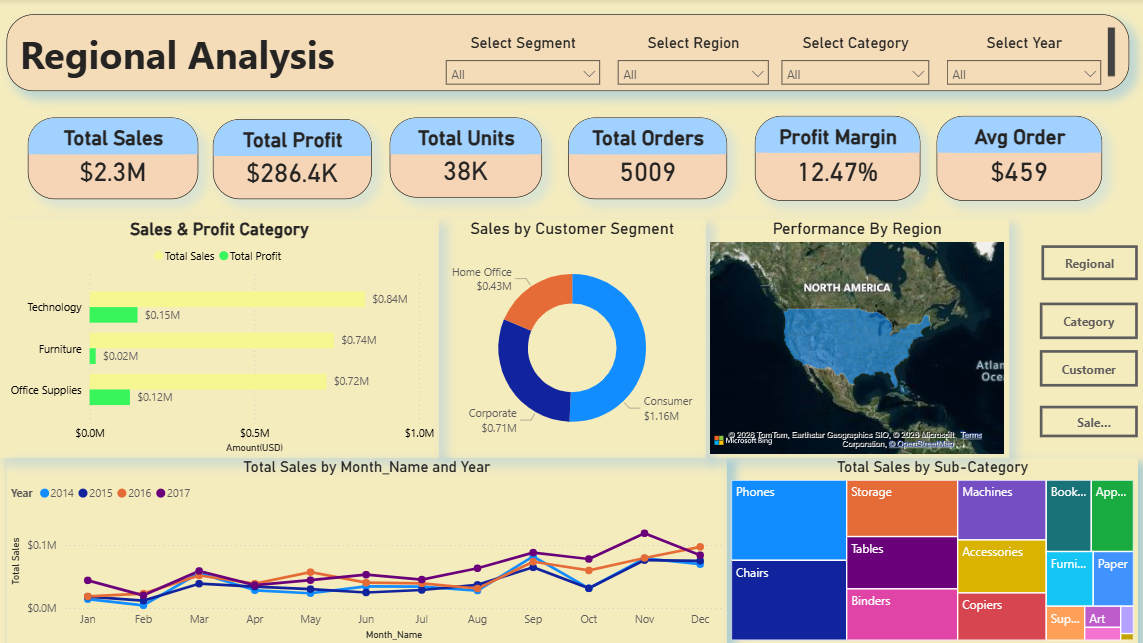

Layout of this report page (visuals, bound fields, positions):
{"tool":"powerbi","page":{"name":"Main Report","canvas":[1280,720],"ordinal":0},"visuals":[{"type":"textbox","box":[8.2,18.4,1251,85.7],"z":0},{"type":"card","title":"Total Sales","fields":{"Values":["_Measures.Total Sales"]},"box":[31,133.2,189.8,91.3],"z":1000},{"type":"card","title":"Total Profit","fields":{"Values":["_Measures.Total Profit"]},"box":[237.3,135.1,177,89.4],"z":2000},{"type":"card","title":"Total Units","fields":{"Values":["_Measures.Total Quantity"]},"box":[434.4,133.2,169.7,89.4],"z":3000},{"type":"card","title":"Total Orders","fields":{"Values":["_Measures.Total orders"]},"box":[633.3,133.2,177,91.3],"z":4000},{"type":"card","title":"Profit Margin","fields":{"Values":["_Measures.Profit Margin"]},"box":[841.4,131.4,184.3,94.9],"z":5000},{"type":"card","title":"Avg Order","fields":{"Values":["_Measures.Avg Order Value"]},"box":[1044,131.4,184.3,94.9],"z":6000},{"type":"clusteredBarChart","title":"Sales & Profit Category","fields":{"Category":["Dim_Product.Category"],"Y":["_Measures.Total Sales","_Measures.Total Profit"]},"box":[0,246.4,489.1,266.5],"z":7000},{"type":"donutChart","title":" Sales by Customer Segment","fields":{"Category":["Dim_Customer.Segment"],"Y":["_Measures.Total Sales"]},"box":[489.1,246.4,297.5,266.5],"z":8000},{"type":"filledMap","title":" Performance By Region","fields":{"Category":["Dim_Geo.State"]},"box":[786.6,246.4,337.7,266.5],"z":9000},{"type":"lineChart","fields":{"Category":["Dim_Date.Month_Name"],"Y":["_Measures.Total Sales"],"Series":["Dim_Date.Year"]},"box":[7.3,512.9,803.1,208.1],"z":10000},{"type":"treemap","fields":{"Group":["Dim_Product.Sub-Category"],"Values":["_Measures.Total Sales"]},"box":[810.4,512.9,458.1,208.1],"z":11000},{"type":"slicer","title":"Select Year","fields":{"Values":["Dim_Date.Year"]},"box":[1045.7,39.6,191.6,85.8],"z":12000},{"type":"slicer","title":"Select Category","fields":{"Values":["Dim_Product.Category"]},"box":[861.4,39.6,184.3,74.8],"z":13000},{"type":"slicer","title":"Select Region","fields":{"Values":["Dim_Geo.Region"]},"box":[678.9,39.6,188,71.2],"z":14000},{"type":"slicer","title":"Select Segment","fields":{"Values":["Dim_Customer.Segment"]},"box":[487.2,39.6,191.6,74.8],"z":15000},{"type":"actionButton","box":[1161.1,275.9,107.4,38.9],"z":16000},{"type":"actionButton","box":[1159.3,338.9,109.3,40.7],"z":17000},{"type":"actionButton","box":[1159.3,392.6,109.3,40.7],"z":18000},{"type":"actionButton","box":[1159.3,453.7,109.3,35.2],"z":19000}]}

Visuals, with their boxes in screenshot pixels (x1, y1, x2, y2), scaled from the page's 1280x720 canvas onto the 1143x643 screenshot:
textbox: left=7, top=16, right=1124, bottom=93
"Total Sales" card: left=28, top=119, right=197, bottom=200
"Total Profit" card: left=212, top=121, right=370, bottom=200
"Total Units" card: left=388, top=119, right=539, bottom=199
"Total Orders" card: left=566, top=119, right=724, bottom=200
"Profit Margin" card: left=751, top=117, right=916, bottom=202
"Avg Order" card: left=932, top=117, right=1097, bottom=202
"Sales & Profit Category" clusteredBarChart: left=0, top=220, right=437, bottom=458
" Sales by Customer Segment" donutChart: left=437, top=220, right=702, bottom=458
" Performance By Region" filledMap: left=702, top=220, right=1004, bottom=458
lineChart - Dim_Date.Month_Name x _Measures.Total Sales: left=7, top=458, right=724, bottom=642
treemap - Dim_Product.Sub-Category x _Measures.Total Sales: left=724, top=458, right=1133, bottom=642
"Select Year" slicer: left=934, top=35, right=1105, bottom=112
"Select Category" slicer: left=769, top=35, right=934, bottom=102
"Select Region" slicer: left=606, top=35, right=774, bottom=99
"Select Segment" slicer: left=435, top=35, right=606, bottom=102
actionButton: left=1037, top=246, right=1133, bottom=281
actionButton: left=1035, top=303, right=1133, bottom=339
actionButton: left=1035, top=351, right=1133, bottom=387
actionButton: left=1035, top=405, right=1133, bottom=437
